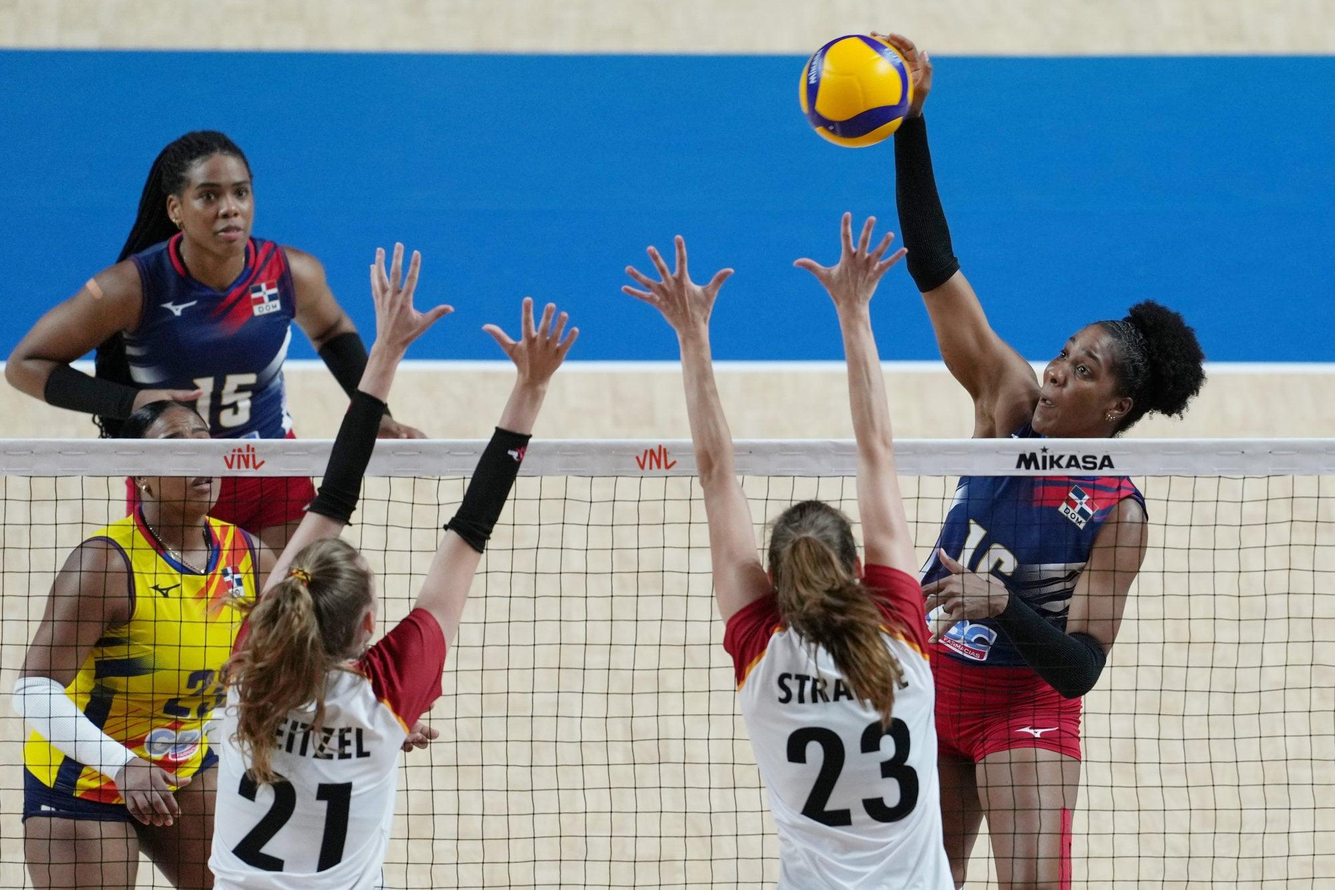ballon_volley: (799, 33, 915, 150)
